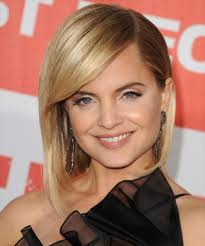s.white: (121, 106, 162, 135)
